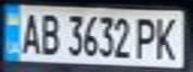2: (112, 13, 133, 60)
3: (97, 12, 118, 59), (63, 11, 84, 57)
6: (81, 12, 100, 57)
A: (15, 9, 42, 56)
B: (36, 10, 60, 56)
K: (151, 14, 184, 61)
P: (133, 14, 160, 61)
